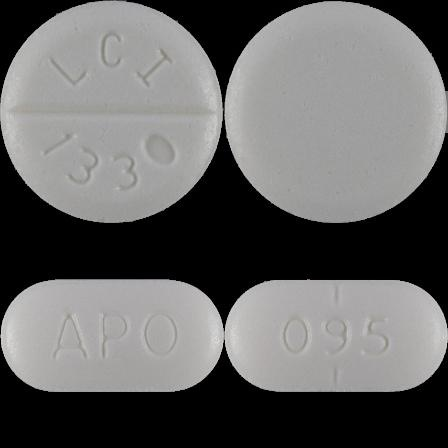68084-855: (0, 0, 224, 224)
